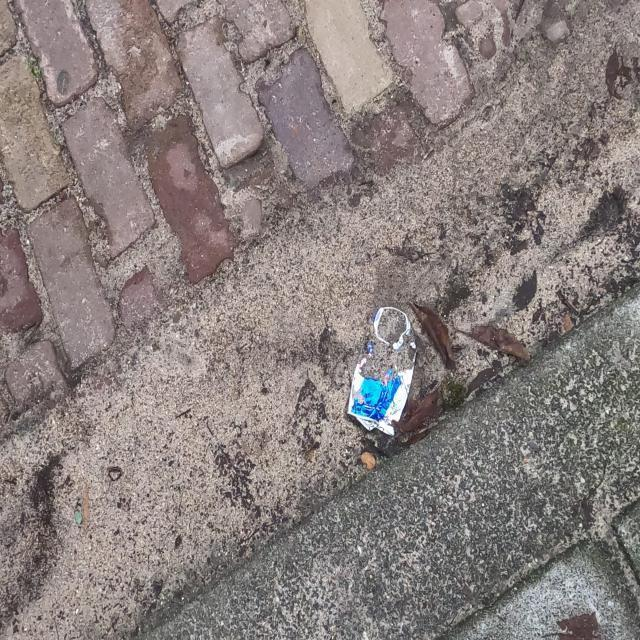Can-Metal: (345, 305, 419, 441)
